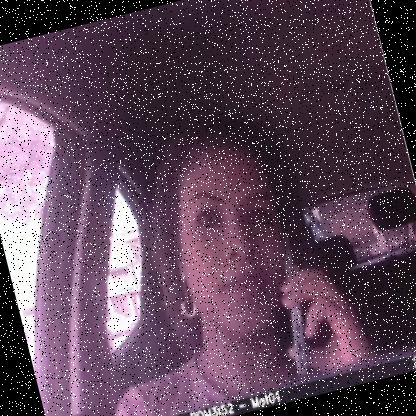phone: (255, 226, 340, 384)
